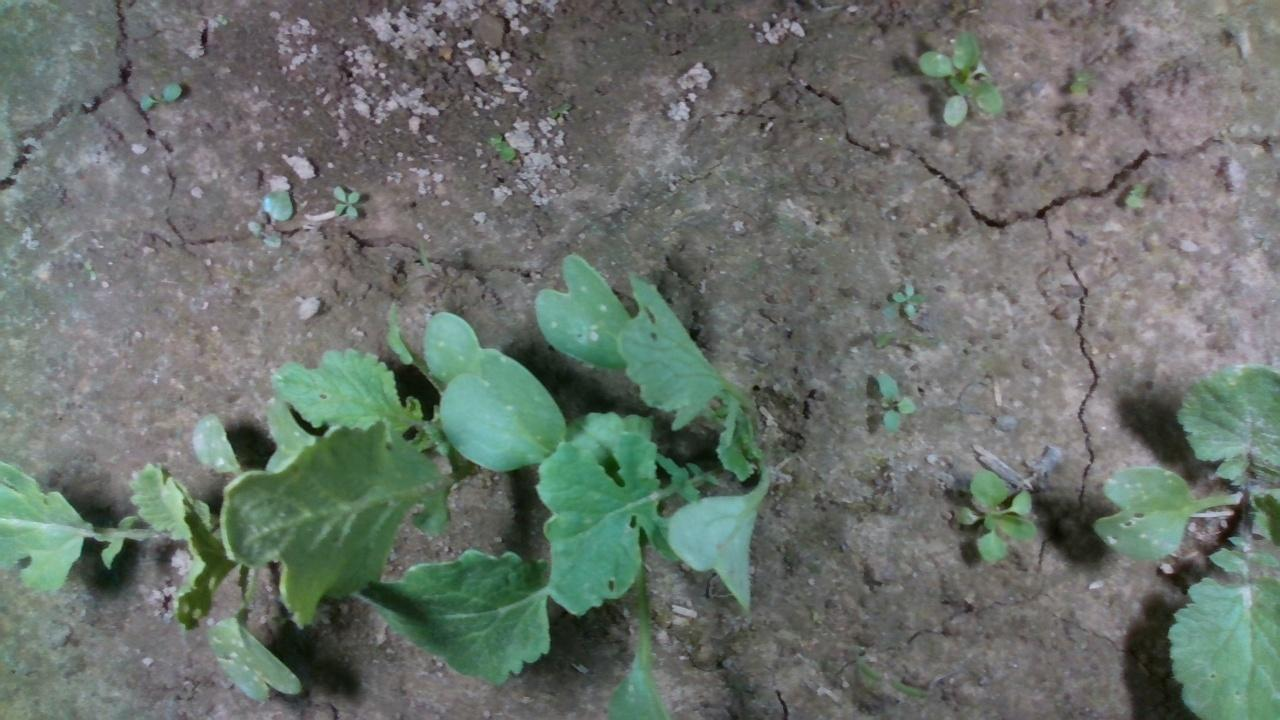weed: (869, 363, 918, 428), (322, 181, 371, 221), (1066, 60, 1114, 99), (137, 81, 183, 109), (888, 276, 919, 317), (1121, 177, 1149, 216)
